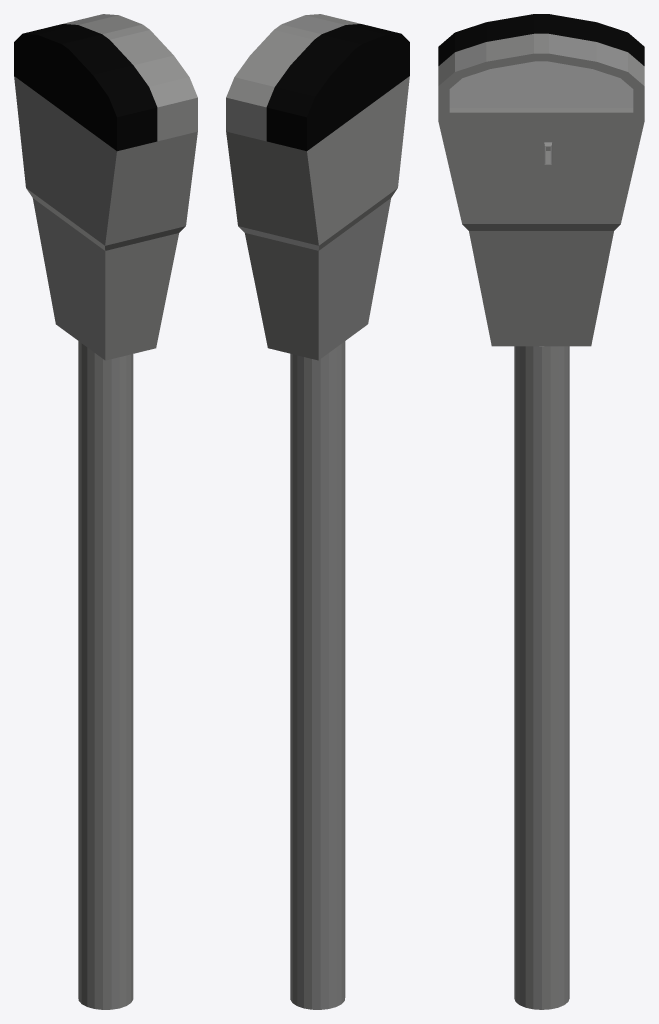
The model's file is ParkingMeter.fbx.
3 renders of one model, left to right at view 1: azimuth 30°, elevation 25°; view 2: azimuth 150°, elevation 25°; view 3: azimuth 270°, elevation 25°, orthographic.
Visible parts, largest first — view 1: ParkingMeter; view 2: ParkingMeter; view 3: ParkingMeter.
Part boxes in pixels (x1,y1,x2,y2): ParkingMeter: (14, 14, 197, 1009); ParkingMeter: (226, 14, 409, 1009); ParkingMeter: (438, 14, 644, 1009).
Bounding box in the file's own units: 0.1508 × 0.2978 × 1.53.
1 material, 1 textured.
